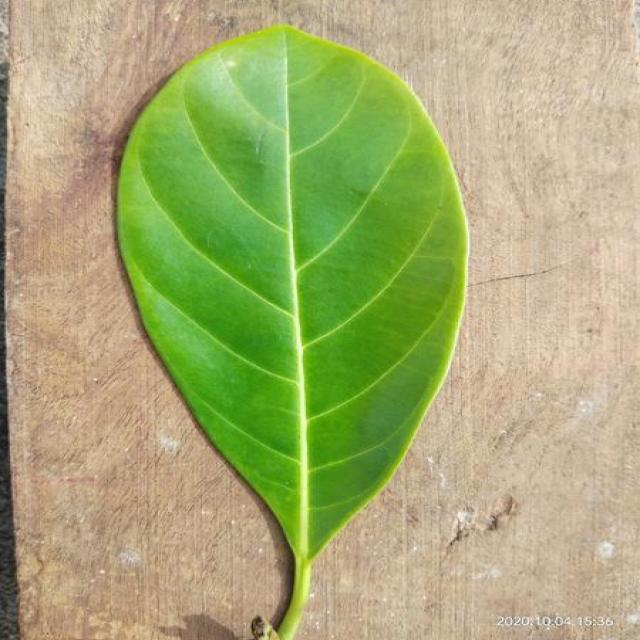Jackfruit: (117, 25, 468, 639)
